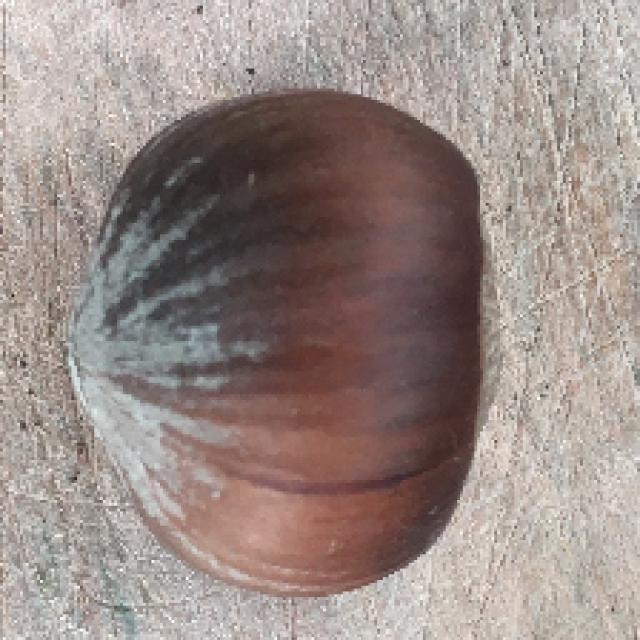damagedHazelnut: (69, 83, 502, 594)
